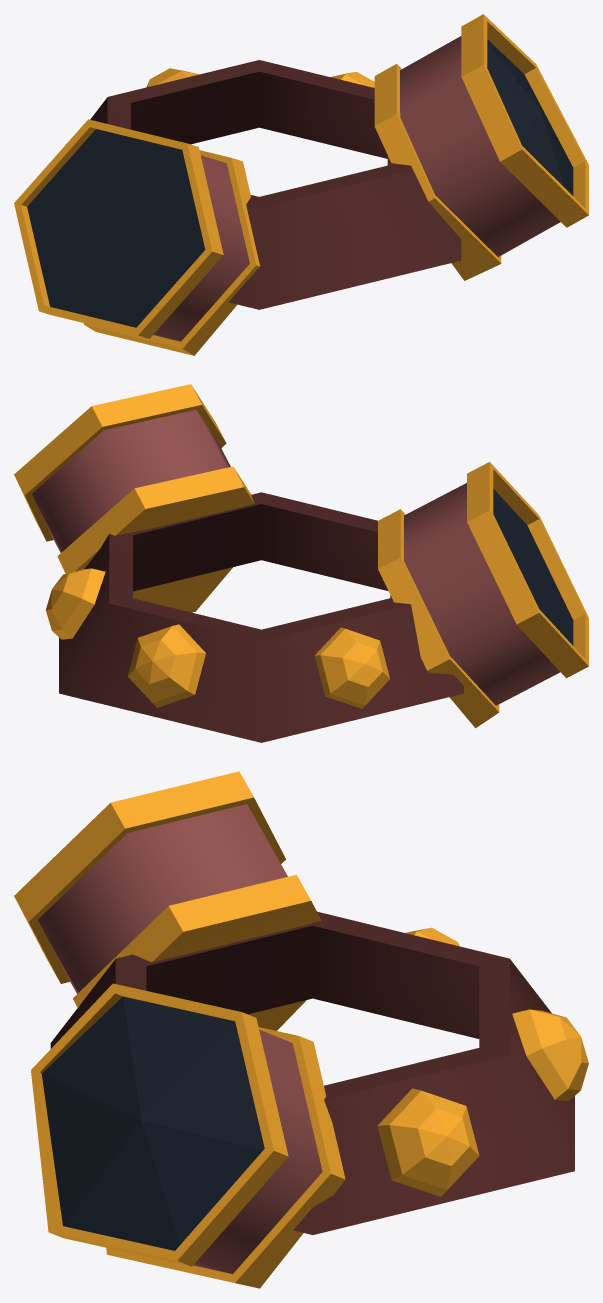
File: Goggles.fbx
3 renders of one model, top to bottom at view 1: azimuth 30°, elevation 25°; view 2: azimuth 150°, elevation 25°; view 3: azimuth 270°, elevation 25°, orthographic. The views are drawn at different scales.
Visible parts, largest first — view 1: Hat_Goggles; view 2: Hat_Goggles; view 3: Hat_Goggles.
Part boxes in pixels (x1,y1,x2,y2): Hat_Goggles: [14, 14, 588, 355]; Hat_Goggles: [14, 384, 588, 742]; Hat_Goggles: [14, 771, 588, 1288].
Bounding box in the file's own units: 1.89 × 0.7402 × 1.32.
